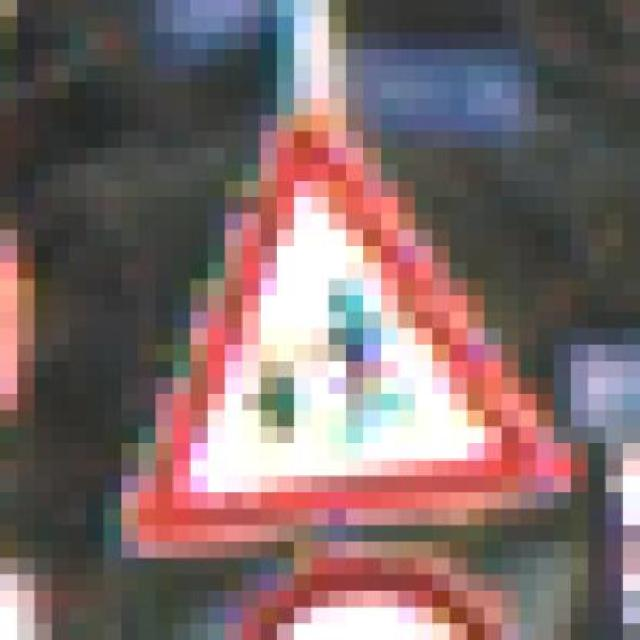Beware of children: (86, 99, 571, 558)
